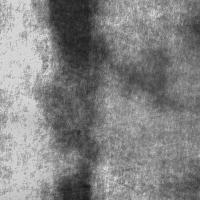patches: (99, 28, 200, 180), (0, 116, 74, 200), (42, 1, 108, 78), (0, 120, 53, 198), (116, 47, 183, 108), (50, 116, 97, 200)
